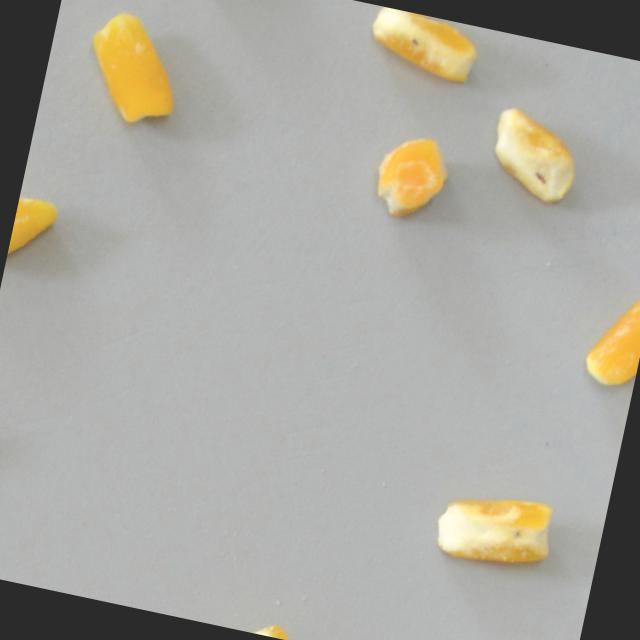dañado: (72, 0, 197, 138), (478, 99, 591, 212), (364, 124, 459, 234), (572, 277, 640, 397), (3, 178, 66, 280)
punto_negro: (428, 475, 563, 580), (359, 4, 485, 91), (233, 611, 328, 640)
